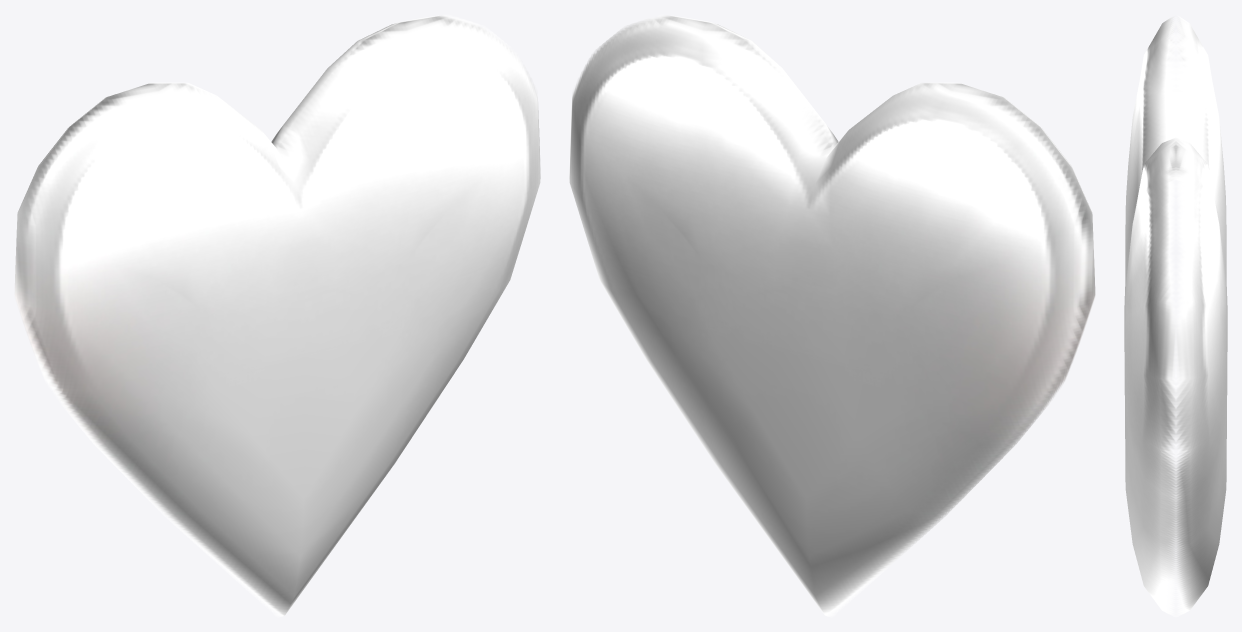
File: heart-test.glb
3 renders of one model, left to right at view 1: azimuth 30°, elevation 25°; view 2: azimuth 150°, elevation 25°; view 3: azimuth 270°, elevation 25°, orthographic. The views are drawn at different scales.
Visible parts, largest first — view 1: heart; view 2: heart; view 3: heart.
Part boxes in pixels (bbox=[...]): heart: bbox=[14, 15, 540, 617]; heart: bbox=[569, 15, 1095, 617]; heart: bbox=[1124, 15, 1227, 616].
Bounding box in the file's own units: 379 × 389 × 68.96.
Materials: 1 (1 with a texture image).
